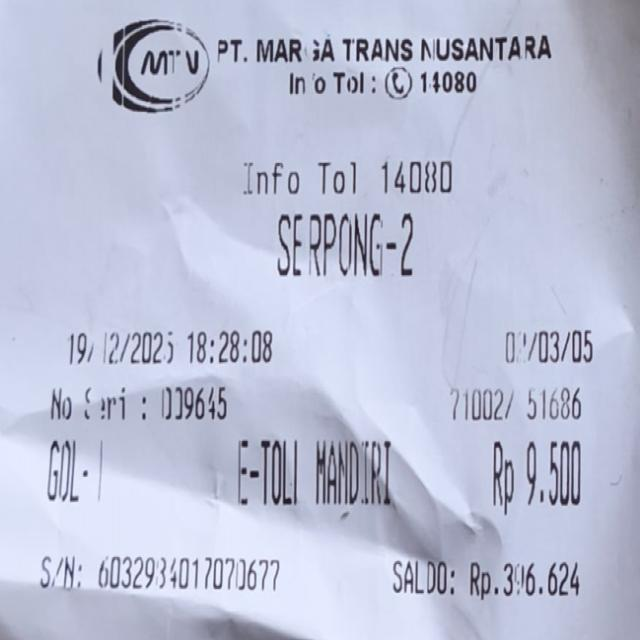date: (64, 327, 281, 365)
store: (211, 35, 561, 67)
total: (477, 436, 593, 512)
